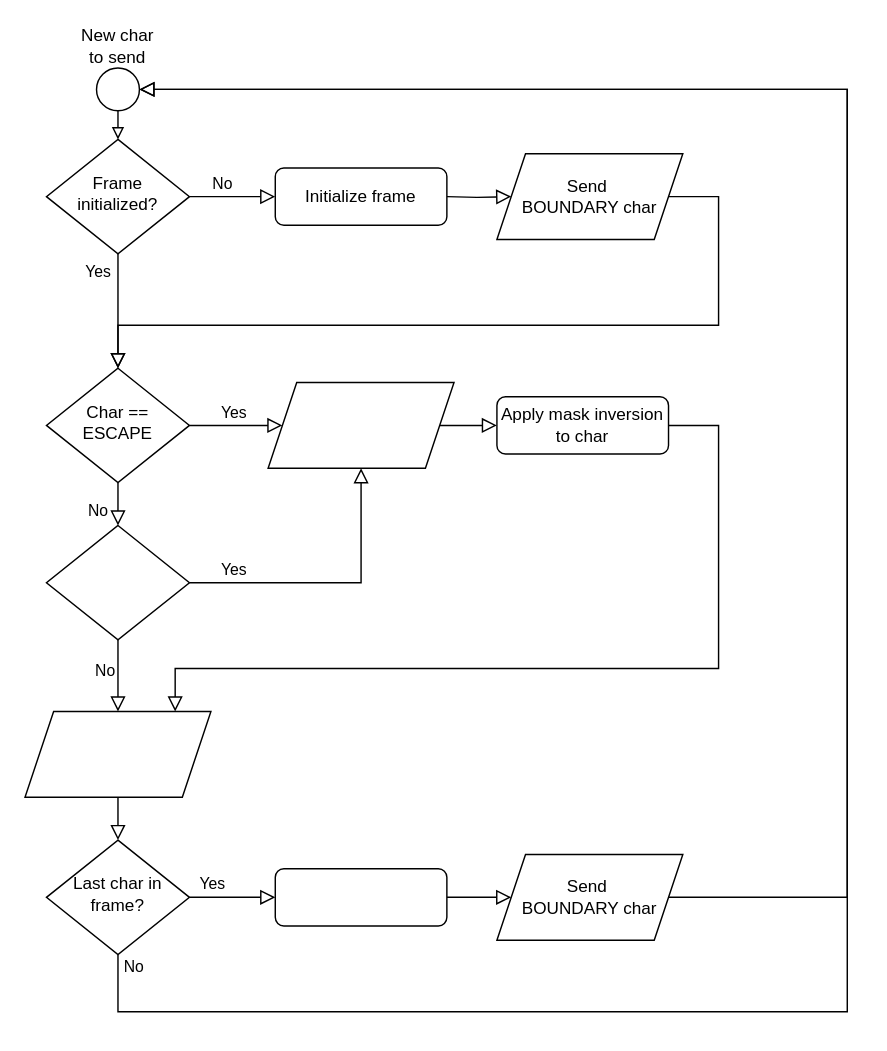
Some shapes in this 887 by 1051 pixel diagram are drawn without their labels. The shapes that lost their labels are listed below. From the top down, each one's centre as x and y in pixels, then its label:
At pixel 360 424: "Send ESCAPE char".
At pixel 117 582: "Char == BOUNDARY".
At pixel 117 753: "Send char".
At pixel 360 896: "Frame finished".
